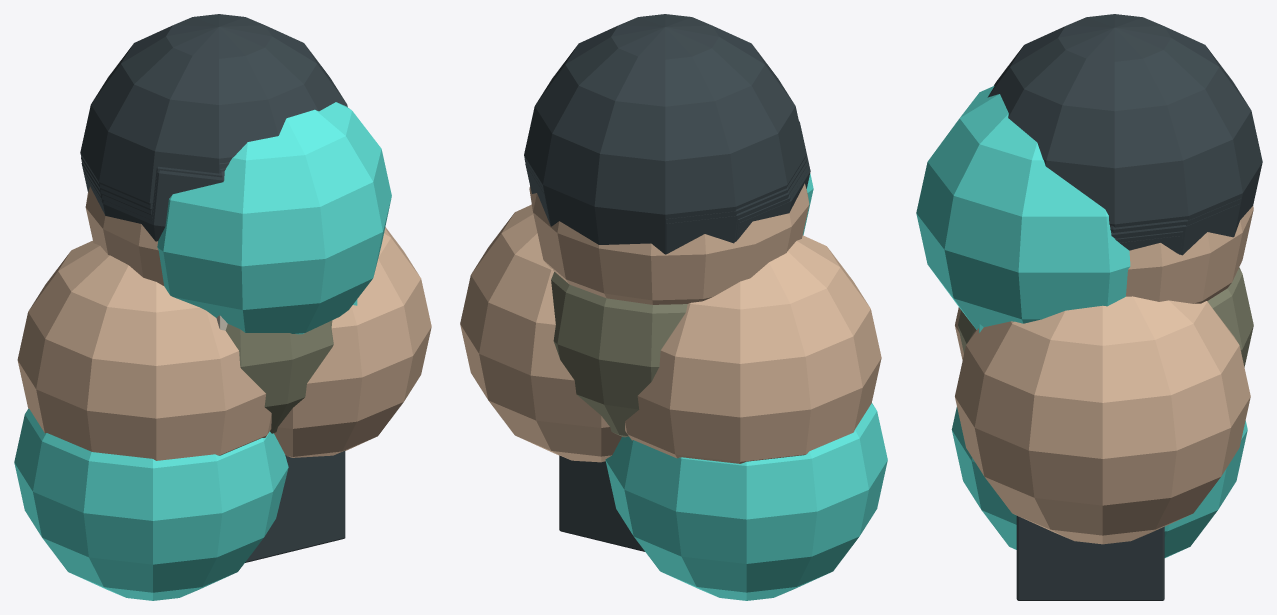
Rendered from Toma_Reed.fbx.
3 renders of one model, left to right at view 1: azimuth 30°, elevation 25°; view 2: azimuth 150°, elevation 25°; view 3: azimuth 270°, elevation 25°, orthographic. The views are drawn at different scales.
Visible parts, largest first — view 1: IntentEye, RightHandMesh, RecallLight, Hair_4, LeftHandMesh, Coat, LeftFootMesh, HeadMesh, RightFootMesh, Hair_0, Hair_1; view 2: Hair_4, RightHandMesh, RecallLight, LeftHandMesh, HeadMesh, Coat, LeftFootMesh, Hair_2, RightFootMesh, Hair_3, Hair_0; view 3: LeftHandMesh, Hair_4, IntentEye, LeftFootMesh, HeadMesh, RecallLight, Coat, Hair_2, Hair_3, Hair_0.
Part boxes in pixels (bbox=[...]): IntentEye: bbox=[157, 102, 391, 334]; RightHandMesh: bbox=[17, 240, 271, 460]; RecallLight: bbox=[14, 408, 288, 600]; Hair_4: bbox=[80, 14, 347, 204]; LeftHandMesh: bbox=[274, 227, 431, 457]; Coat: bbox=[225, 320, 333, 433]; LeftFootMesh: bbox=[245, 451, 345, 562]; HeadMesh: bbox=[85, 186, 163, 285]; RightFootMesh: bbox=[245, 455, 301, 562]; Hair_0: bbox=[84, 170, 224, 241]; Hair_1: bbox=[83, 166, 224, 220]; Hair_4: bbox=[524, 14, 806, 254]; RightHandMesh: bbox=[625, 235, 881, 463]; RecallLight: bbox=[605, 403, 887, 600]; LeftHandMesh: bbox=[460, 204, 621, 462]; HeadMesh: bbox=[529, 183, 809, 304]; Coat: bbox=[551, 272, 687, 437]; LeftFootMesh: bbox=[559, 455, 644, 551]; Hair_2: bbox=[525, 161, 807, 254]; RightFootMesh: bbox=[603, 461, 644, 550]; Hair_3: bbox=[524, 156, 806, 253]; Hair_0: bbox=[738, 121, 810, 239]; LeftHandMesh: bbox=[955, 296, 1250, 544]; Hair_4: bbox=[987, 14, 1262, 236]; IntentEye: bbox=[916, 85, 1130, 329]; LeftFootMesh: bbox=[1016, 516, 1164, 600]; HeadMesh: bbox=[1126, 206, 1253, 303]; RecallLight: bbox=[951, 407, 1247, 557]; Coat: bbox=[958, 267, 1253, 367]; Hair_2: bbox=[1111, 204, 1239, 255]; Hair_3: bbox=[1110, 198, 1241, 236]; Hair_0: bbox=[1119, 236, 1179, 253].
Bounding box in the file's own units: 3.18 × 4.28 × 2.34.
